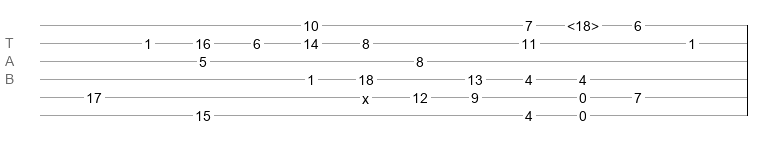0: (579, 90, 587, 100), (579, 108, 587, 118)
1: (144, 36, 152, 46), (307, 72, 315, 82), (688, 36, 696, 46)
10: (303, 18, 319, 28)
11: (521, 36, 537, 46)
12: (412, 90, 428, 100)
13: (467, 72, 483, 82)
14: (303, 36, 319, 46)
15: (195, 108, 211, 118)
16: (195, 36, 211, 46)
17: (86, 90, 102, 100)
18: (358, 72, 374, 82)
4: (525, 108, 533, 118), (525, 72, 533, 82), (579, 72, 587, 82)
5: (199, 54, 207, 64)
6: (253, 36, 261, 46), (634, 18, 642, 28)
7: (525, 18, 533, 28), (634, 90, 642, 100)
8: (362, 36, 370, 46), (416, 54, 424, 64)
9: (471, 90, 479, 100)
harmonic: (567, 18, 599, 28)
x: (362, 91, 369, 99)
